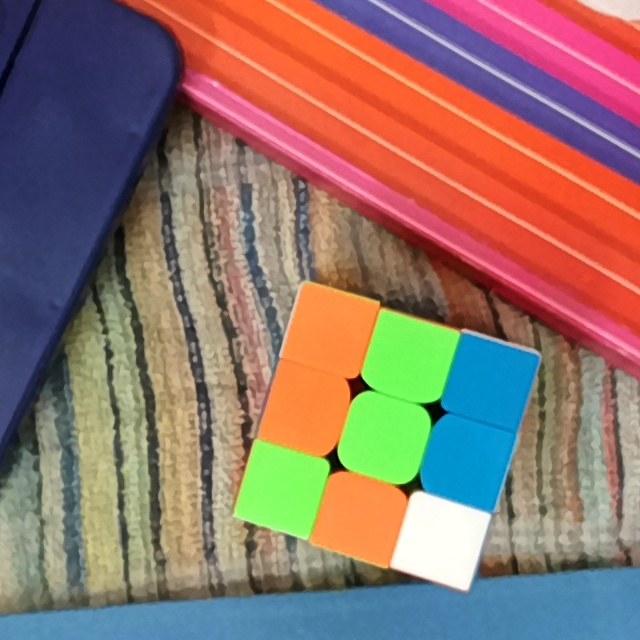tile: (326, 489, 394, 546), (459, 346, 518, 410), (436, 428, 496, 490), (250, 461, 311, 521), (298, 301, 360, 360), (355, 408, 415, 467), (276, 379, 335, 439), (413, 511, 472, 568), (382, 331, 440, 386)
